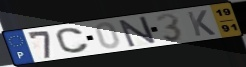0: (93, 21, 123, 51)
3: (155, 12, 185, 43)
7: (27, 30, 52, 59)
C: (54, 27, 91, 54)
K: (185, 9, 218, 37)
N: (118, 15, 159, 49)
